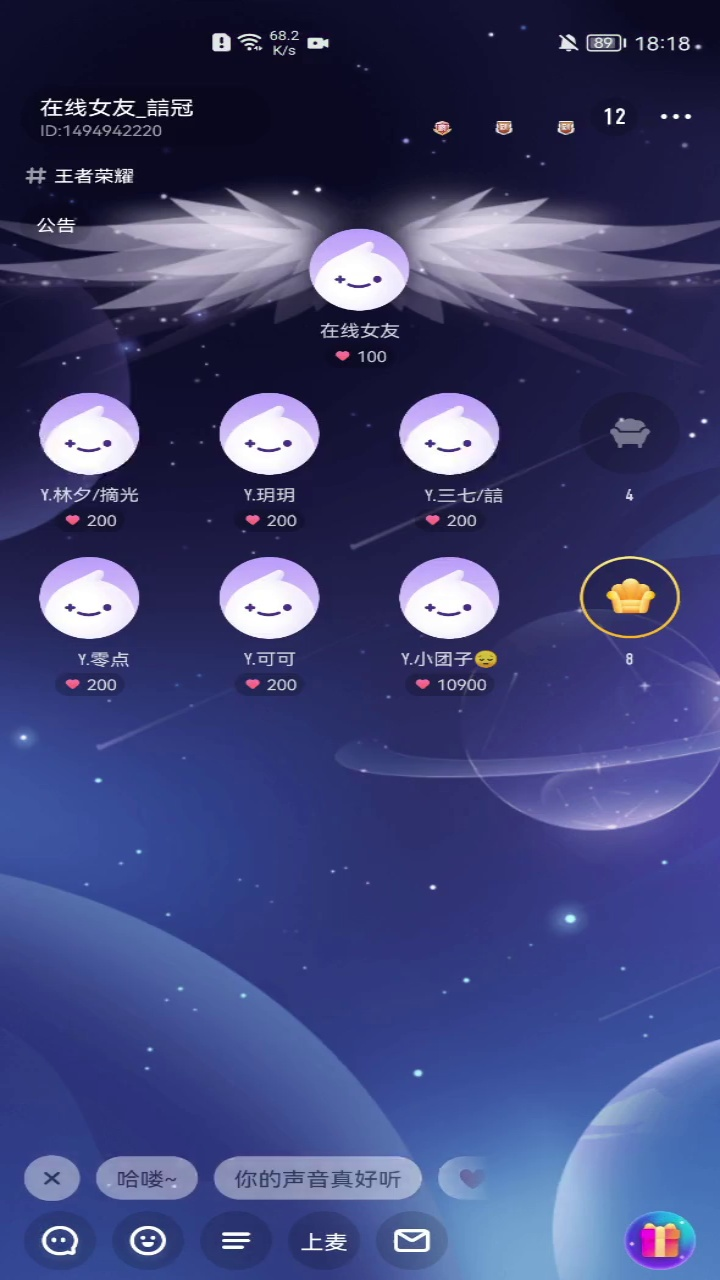avatar: (211, 549, 329, 644), (35, 546, 147, 645), (213, 385, 327, 482), (389, 549, 508, 641), (392, 385, 507, 478), (35, 385, 147, 480), (301, 225, 408, 312)
